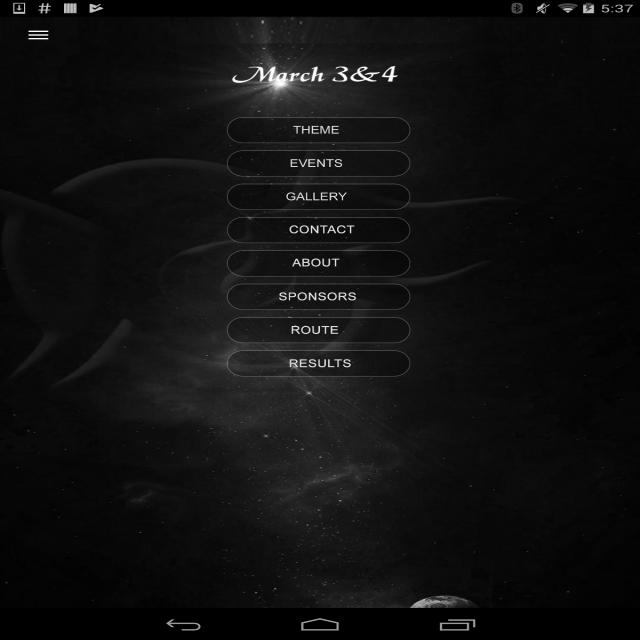Button: (224, 150, 416, 177), (224, 183, 416, 210), (224, 250, 416, 277), (224, 283, 416, 310), (224, 350, 416, 377), (224, 117, 416, 143), (224, 217, 416, 243), (224, 317, 416, 343)
ImageButton: (9, 17, 68, 54)
ImageView: (17, 43, 623, 110)
